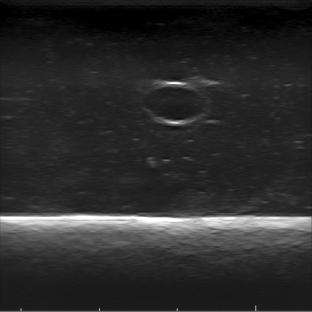vessel: (140, 80, 207, 128)
